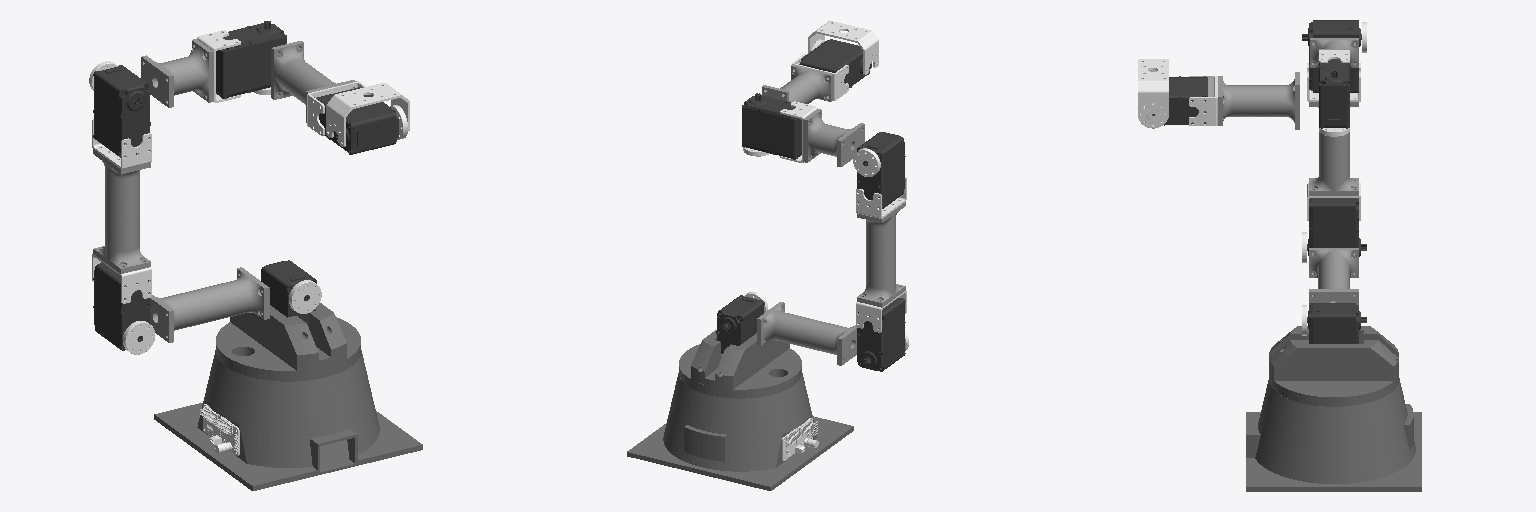
--- Render facts (derived) ---
The picture shows the robot from 3 angles, left to right: view 1: azimuth 30°, elevation 25°; view 2: azimuth 150°, elevation 25°; view 3: azimuth 270°, elevation 25°; orthographic projection.
Robot: arm — 8 links, 7 joints (6 revolute, 1 fixed); root link base_link; default pose: every joint at zero.
Links seen in each view (by area): view 1: base_link, link_3, link_1, link_4, link_2, link_5, link_6; view 2: base_link, link_3, link_1, link_4, link_5, link_2, link_6; view 3: base_link, link_1, link_3, link_5, link_4, link_2, link_6.
Link boxes in pixels (x1=…): base_link: x1=154, y1=350, x2=422, y2=490; link_3: x1=92, y1=65, x2=151, y2=350; link_1: x1=216, y1=260, x2=360, y2=381; link_4: x1=89, y1=21, x2=286, y2=107; link_2: x1=123, y1=267, x2=321, y2=354; link_5: x1=254, y1=41, x2=398, y2=154; link_6: x1=326, y1=83, x2=409, y2=146; base_link: x1=627, y1=373, x2=853, y2=490; link_3: x1=856, y1=132, x2=906, y2=371; link_1: x1=679, y1=295, x2=801, y2=398; link_4: x1=742, y1=93, x2=880, y2=176; link_5: x1=743, y1=39, x2=871, y2=156; link_2: x1=744, y1=292, x2=908, y2=365; link_6: x1=808, y1=20, x2=878, y2=74; base_link: x1=1246, y1=378, x2=1421, y2=491; link_1: x1=1269, y1=303, x2=1398, y2=406; link_3: x1=1302, y1=20, x2=1366, y2=256; link_5: x1=1152, y1=72, x2=1349, y2=136; link_4: x1=1310, y1=22, x2=1366, y2=128; link_2: x1=1302, y1=232, x2=1358, y2=335; link_6: x1=1138, y1=59, x2=1168, y2=128.
Size in the robot's own frame: 0.266 by 0.2747 by 0.3998 metres.
Meshes: 20 distinct files referenced, 25 mesh visuals loaded (14 binary STL); not drawn: 15 (reference not matched to a file when rendering).

robot.urdf — arm:
<?xml version="1.0" ?>
<!-- Generated using onshape-to-robot -->
<!-- Onshape https://cad.onshape.com/documents/76b458222900603d1acdcd2d/w/60b37ffbb10251fa10a15486/e/290041a083f12777cf197925 -->
<robot name="arm">
  <!-- Link base_link -->
  <link name="base_link">
    <inertial>
      <origin xyz="-0.0316393 0.0105246 0.0193454" rpy="0 0 0"/>
      <mass value="0.0051027"/>
      <inertia ixx="4.43651e-06" ixy="-1.66842e-06" ixz="1.48432e-07" iyy="5.21001e-06" iyz="5.5828e-08" izz="8.99635e-06"/>
    </inertial>
    <!-- Part ph_pan_head_screw_m2x0_40_x_18__e892a708fe3a418cf40ac0100f4b190f -->
    <!-- Part base -->
    <visual>
      <origin xyz="-4.13721e-18 9.14136e-05 0.08" rpy="0 -0 0"/>
      <geometry>
        <mesh filename="package://arm_description/assets/base.stl"/>
      </geometry>
      <material name="base_material">
        <color rgba="0.498039 0.498039 0.498039 1"/>
      </material>
    </visual>
    <collision>
      <origin xyz="-4.13721e-18 9.14136e-05 0.08" rpy="0 -0 0"/>
      <geometry>
        <mesh filename="package://arm_description/assets/base.stl"/>
      </geometry>
    </collision>
    <!-- Part ph_pan_head_screw_m2_5x0_45_x_5__7fa1fce1761ec0205aecddd7e6f541bd -->
    <!-- Part ph_pan_head_screw_m2x0_40_x_18__e892a708fe3a418cf40ac0100f4b190f_2 -->
    <!-- Part hex_nut_grade_a___b_m2x0_4__3c416b87f78c3d5d8c04a06ae4c9fdad -->
    <!-- Part ph_pan_head_screw_m2x0_40_x_18__e892a708fe3a418cf40ac0100f4b190f_3 -->
    <!-- Part ph_pan_head_screw_m2_5x0_45_x_5__7fa1fce1761ec0205aecddd7e6f541bd_2 -->
    <!-- Part pca9685_v18 -->
    <visual>
      <origin xyz="-0.0662643 0.0302904 0.0333648" rpy="3.14159 -0 -1.5708"/>
      <geometry>
        <mesh filename="package://arm_description/assets/pca9685_v18.stl"/>
      </geometry>
      <material name="pca9685_v18_material">
        <color rgba="0.960784 0.960784 0.964706 1"/>
      </material>
    </visual>
    <collision>
      <origin xyz="-0.0662643 0.0302904 0.0333648" rpy="3.14159 -0 -1.5708"/>
      <geometry>
        <mesh filename="package://arm_description/assets/pca9685_v18.stl"/>
      </geometry>
    </collision>
    <!-- Part hex_nut_grade_a___b_m2x0_4__3c416b87f78c3d5d8c04a06ae4c9fdad_2 -->
    <!-- Part hex_nut_grade_a___b_m2x0_4__3c416b87f78c3d5d8c04a06ae4c9fdad_3 -->
    <!-- Part ph_pan_head_screw_m2_5x0_45_x_5__7fa1fce1761ec0205aecddd7e6f541bd_3 -->
    <!-- Part ph_pan_head_screw_m2_5x0_45_x_5__7fa1fce1761ec0205aecddd7e6f541bd_4 -->
    <!-- Part ph_pan_head_screw_m2_5x0_45_x_5__7fa1fce1761ec0205aecddd7e6f541bd_5 -->
    <!-- Part ph_pan_head_screw_m2_5x0_45_x_5__7fa1fce1761ec0205aecddd7e6f541bd_6 -->
    <!-- Part hex_nut_grade_a___b_m2x0_4__3c416b87f78c3d5d8c04a06ae4c9fdad_4 -->
    <!-- Part ph_pan_head_screw_m2x0_40_x_18__e892a708fe3a418cf40ac0100f4b190f_4 -->
    <!-- Part din_en_iso_4762_m2_5x25_ipt_v2 -->
    <!-- Part din_en_iso_4762_m2_5x25_ipt_v2_2 -->
    <!-- Part din_en_iso_4762_m2_5x25_ipt_v2_3 -->
    <!-- Part din_en_iso_4762_m2_5x25_ipt_v2_4 -->
    <!-- Part servo_base -->
    <visual>
      <origin xyz="4.07245e-18 -0.0119086 0.068" rpy="1.5708 1.5708 0"/>
      <geometry>
        <mesh filename="package://arm_description/assets/servo_base.stl"/>
      </geometry>
      <material name="servo_base_material">
        <color rgba="0.313725 0.313725 0.313725 1"/>
      </material>
    </visual>
    <collision>
      <origin xyz="4.07245e-18 -0.0119086 0.068" rpy="1.5708 1.5708 0"/>
      <geometry>
        <mesh filename="package://arm_description/assets/servo_base.stl"/>
      </geometry>
    </collision>
  </link>
  <!-- Link link_1 -->
  <link name="link_1">
    <inertial>
      <origin xyz="-0.000786667 0.00161245 0.0144578" rpy="0 0 0"/>
      <mass value="0.336956"/>
      <inertia ixx="0.00040334" ixy="-4.27416e-07" ixz="-1.97684e-06" iyy="0.000285713" iyz="-7.50728e-06" izz="0.000595346"/>
    </inertial>
    <!-- Part joint_2_connecter2 -->
    <visual>
      <origin xyz="-2.0755e-18 4.97131e-05 0.0045" rpy="3.77136e-16 4.13813e-16 -3.14159"/>
      <geometry>
        <mesh filename="package://arm_description/assets/joint_2_connecter2.stl"/>
      </geometry>
      <material name="joint_2_connecter2_material">
        <color rgba="0.498039 0.498039 0.498039 1"/>
      </material>
    </visual>
    <collision>
      <origin xyz="-2.0755e-18 4.97131e-05 0.0045" rpy="3.77136e-16 4.13813e-16 -3.14159"/>
      <geometry>
        <mesh filename="package://arm_description/assets/joint_2_connecter2.stl"/>
      </geometry>
    </collision>
    <!-- Part hex_nut_grade_a___b_m3x0_5__efee9957898a49f0fc3bee2ce194c05c -->
    <!-- Part ph_pan_head_screw_m2_5x0_45_x_5__7fa1fce1761ec0205aecddd7e6f541bd_7 -->
    <!-- Part ph_pan_head_screw_m2_5x0_45_x_5__7fa1fce1761ec0205aecddd7e6f541bd_8 -->
    <!-- Part hex_nut_grade_a___b_m3x0_5__efee9957898a49f0fc3bee2ce194c05c_2 -->
    <!-- Part ph_pan_head_screw_m2_5x0_45_x_5__7fa1fce1761ec0205aecddd7e6f541bd_9 -->
    <!-- Part ph_pan_head_screw_m3x0_50_x_16__783e59ccdfb4992b21648f4a6e255603 -->
    <!-- Part wheel_gear_v6 -->
    <visual>
      <origin xyz="0 6.77626e-19 -0.0055" rpy="1.5708 4.80235e-33 3.63501e-32"/>
      <geometry>
        <mesh filename="package://arm_description/assets/wheel_gear_v6.stl"/>
      </geometry>
      <material name="wheel_gear_v6_material">
        <color rgba="0.960784 0.960784 0.964706 1"/>
      </material>
    </visual>
    <collision>
      <origin xyz="0 6.77626e-19 -0.0055" rpy="1.5708 4.80235e-33 3.63501e-32"/>
      <geometry>
        <mesh filename="package://arm_description/assets/wheel_gear_v6.stl"/>
      </geometry>
    </collision>
    <!-- Part base_cover -->
    <visual>
      <origin xyz="-2.06907e-18 -6.87113e-18 0.0045" rpy="-9.87758e-16 -4.13813e-16 1.29342e-16"/>
      <geometry>
        <mesh filename="package://arm_description/assets/base_cover.stl"/>
      </geometry>
      <material name="base_cover_material">
        <color rgba="0.498039 0.498039 0.498039 1"/>
      </material>
    </visual>
    <collision>
      <origin xyz="-2.06907e-18 -6.87113e-18 0.0045" rpy="-9.87758e-16 -4.13813e-16 1.29342e-16"/>
      <geometry>
        <mesh filename="package://arm_description/assets/base_cover.stl"/>
      </geometry>
    </collision>
    <!-- Part ph_pan_head_screw_m2_5x0_45_x_6__500490dbd18317df19b0482cf3b5d3b6 -->
    <!-- Part ph_pan_head_screw_m2_5x0_45_x_5__7fa1fce1761ec0205aecddd7e6f541bd_10 -->
    <!-- Part ph_pan_head_screw_m2_5x0_45_x_5__7fa1fce1761ec0205aecddd7e6f541bd_11 -->
    <!-- Part joint_2_connecter1 -->
    <visual>
      <origin xyz="-2.0755e-18 4.97131e-05 0.0045" rpy="3.77136e-16 4.13813e-16 -3.14159"/>
      <geometry>
        <mesh filename="package://arm_description/assets/joint_2_connecter1.stl"/>
      </geometry>
      <material name="joint_2_connecter1_material">
        <color rgba="0.498039 0.498039 0.498039 1"/>
      </material>
    </visual>
    <collision>
      <origin xyz="-2.0755e-18 4.97131e-05 0.0045" rpy="3.77136e-16 4.13813e-16 -3.14159"/>
      <geometry>
        <mesh filename="package://arm_description/assets/joint_2_connecter1.stl"/>
      </geometry>
    </collision>
    <!-- Part ph_pan_head_screw_m2_5x0_45_x_5__7fa1fce1761ec0205aecddd7e6f541bd_12 -->
    <!-- Part hex_nut_grade_a___b_m3x0_5__efee9957898a49f0fc3bee2ce194c05c_3 -->
    <!-- Part ph_pan_head_screw_m3x0_50_x_16__783e59ccdfb4992b21648f4a6e255603_2 -->
    <!-- Part hex_nut_grade_a___b_m3x0_5__efee9957898a49f0fc3bee2ce194c05c_4 -->
    <!-- Part ph_pan_head_screw_m2_5x0_45_x_6__500490dbd18317df19b0482cf3b5d3b6_2 -->
    <!-- Part ph_pan_head_screw_m2_5x0_45_x_6__500490dbd18317df19b0482cf3b5d3b6_3 -->
    <!-- Part ph_pan_head_screw_m3x0_50_x_16__783e59ccdfb4992b21648f4a6e255603_3 -->
    <!-- Part ph_pan_head_screw_m2_5x0_45_x_6__500490dbd18317df19b0482cf3b5d3b6_4 -->
    <!-- Part ph_pan_head_screw_m2_5x0_45_x_5__7fa1fce1761ec0205aecddd7e6f541bd_13 -->
    <!-- Part ph_pan_head_screw_m2_5x0_45_x_5__7fa1fce1761ec0205aecddd7e6f541bd_14 -->
    <!-- Part ph_pan_head_screw_m3x0_50_x_16__783e59ccdfb4992b21648f4a6e255603_4 -->
    <!-- Part din_en_iso_4762_m2_5x25_ipt_v2_5 -->
    <!-- Part din_en_iso_4762_m2_5x25_ipt_v2_6 -->
    <!-- Part din_en_iso_4762_m2_5x25_ipt_v2_7 -->
    <!-- Part din_en_iso_4762_m2_5x25_ipt_v2_8 -->
    <!-- Part servo_base_2 -->
    <visual>
      <origin xyz="-3.34274e-17 -0.0240746 0.0795" rpy="-4.66678e-16 9.87758e-16 1.5708"/>
      <geometry>
        <mesh filename="package://arm_description/assets/servo_base__2.stl"/>
      </geometry>
      <material name="servo_base_2_material">
        <color rgba="0.313725 0.313725 0.313725 1"/>
      </material>
    </visual>
    <collision>
      <origin xyz="-3.34274e-17 -0.0240746 0.0795" rpy="-4.66678e-16 9.87758e-16 1.5708"/>
      <geometry>
        <mesh filename="package://arm_description/assets/servo_base__2.stl"/>
      </geometry>
    </collision>
  </link>
  <!-- Link link_2 -->
  <link name="link_2">
    <inertial>
      <origin xyz="-0.083 -9.90348e-18 -0.03175" rpy="0 0 0"/>
      <mass value="0.014882"/>
      <inertia ixx="1.0566e-05" ixy="-6.61744e-22" ixz="-5.66453e-20" iyy="6.13828e-05" iyz="-2.66021e-21" izz="5.38966e-05"/>
    </inertial>
    <!-- Part hex_nut_grade_a___b_m3x0_5__efee9957898a49f0fc3bee2ce194c05c_5 -->
    <!-- Part link__rotation_default_length__cm___10 -->
    <visual>
      <origin xyz="-0.033 0 -0.03175" rpy="-3.14159 1.5708 0"/>
      <geometry>
        <mesh filename="package://arm_description/assets/link__rotation_default_length__cm___10.stl"/>
      </geometry>
      <material name="link__rotation_default_length__cm___10_material">
        <color rgba="0.647059 0.647059 0.647059 1"/>
      </material>
    </visual>
    <collision>
      <origin xyz="-0.033 0 -0.03175" rpy="-3.14159 1.5708 0"/>
      <geometry>
        <mesh filename="package://arm_description/assets/link__rotation_default_length__cm___10.stl"/>
      </geometry>
    </collision>
    <!-- Part ph_pan_head_screw_m3x0_50_x_10__f9471002c7d2be787504e53f034b0545 -->
    <!-- Part hex_nut_grade_a___b_m3x0_5__efee9957898a49f0fc3bee2ce194c05c_6 -->
    <!-- Part ph_pan_head_screw_m3x0_50_x_10__f9471002c7d2be787504e53f034b0545_2 -->
    <!-- Part ph_pan_head_screw_m3x0_50_x_10__f9471002c7d2be787504e53f034b0545_3 -->
    <!-- Part hex_nut_grade_a___b_m3x0_5__efee9957898a49f0fc3bee2ce194c05c_7 -->
    <!-- Part hex_nut_grade_a___b_m3x0_5__efee9957898a49f0fc3bee2ce194c05c_8 -->
    <!-- Part ph_pan_head_screw_m3x0_50_x_10__f9471002c7d2be787504e53f034b0545_4 -->
    <!-- Part hex_nut_grade_a___b_m3x0_5__efee9957898a49f0fc3bee2ce194c05c_9 -->
    <!-- Part hex_nut_grade_a___b_m3x0_5__efee9957898a49f0fc3bee2ce194c05c_10 -->
    <!-- Part ph_pan_head_screw_m3x0_50_x_10__f9471002c7d2be787504e53f034b0545_5 -->
    <!-- Part ph_pan_head_screw_m3x0_50_x_10__f9471002c7d2be787504e53f034b0545_6 -->
    <!-- Part ph_pan_head_screw_m3x0_50_x_10__f9471002c7d2be787504e53f034b0545_7 -->
    <!-- Part ph_pan_head_screw_m3x0_50_x_10__f9471002c7d2be787504e53f034b0545_8 -->
    <!-- Part hex_nut_grade_a___b_m3x0_5__efee9957898a49f0fc3bee2ce194c05c_11 -->
    <!-- Part hex_nut_grade_a___b_m3x0_5__efee9957898a49f0fc3bee2ce194c05c_12 -->
    <!-- Part ph_pan_head_screw_m2x0_40_x_6__e925606c9d0777623cf02b2ae3e987b1 -->
    <!-- Part ph_pan_head_screw_m2x0_40_x_6__e925606c9d0777623cf02b2ae3e987b1_2 -->
    <!-- Part ph_pan_head_screw_m2x0_40_x_6__e925606c9d0777623cf02b2ae3e987b1_3 -->
    <!-- Part ph_pan_head_screw_m2x0_40_x_6__e925606c9d0777623cf02b2ae3e987b1_4 -->
    <!-- Part ph_pan_head_screw_m2x0_40_x_6__e925606c9d0777623cf02b2ae3e987b1_5 -->
    <!-- Part ph_pan_head_screw_m2x0_40_x_6__e925606c9d0777623cf02b2ae3e987b1_6 -->
    <!-- Part ph_pan_head_screw_m2x0_40_x_6__e925606c9d0777623cf02b2ae3e987b1_7 -->
    <!-- Part wheel_gear_v6_2 -->
    <visual>
      <origin xyz="-3.9443e-31 0 -0.0055" rpy="1.5708 -2.37925e-32 0"/>
      <geometry>
        <mesh filename="package://arm_description/assets/wheel_gear_v6__2.stl"/>
      </geometry>
      <material name="wheel_gear_v6_2_material">
        <color rgba="0.960784 0.960784 0.964706 1"/>
      </material>
    </visual>
    <collision>
      <origin xyz="-3.9443e-31 0 -0.0055" rpy="1.5708 -2.37925e-32 0"/>
      <geometry>
        <mesh filename="package://arm_description/assets/wheel_gear_v6__2.stl"/>
      </geometry>
    </collision>
    <!-- Part ph_pan_head_screw_m2x0_40_x_6__e925606c9d0777623cf02b2ae3e987b1_8 -->
    <!-- Part ph_pan_head_screw_m2x0_40_x_6__e925606c9d0777623cf02b2ae3e987b1_9 -->
    <!-- Part ph_pan_head_screw_m2x0_40_x_6__e925606c9d0777623cf02b2ae3e987b1_10 -->
    <!-- Part large_support -->
    <visual>
      <origin xyz="-0.033 0.015 0.0015" rpy="-3.14159 1.5708 0"/>
      <geometry>
        <mesh filename="package://arm_description/assets/large_support.stl"/>
      </geometry>
      <material name="large_support_material">
        <color rgba="0.960784 0.960784 0.964706 1"/>
      </material>
    </visual>
    <collision>
      <origin xyz="-0.033 0.015 0.0015" rpy="-3.14159 1.5708 0"/>
      <geometry>
        <mesh filename="package://arm_description/assets/large_support.stl"/>
      </geometry>
    </collision>
    <!-- Part ph_pan_head_screw_m2x0_40_x_6__e925606c9d0777623cf02b2ae3e987b1_11 -->
    <!-- Part ph_pan_head_screw_m2x0_40_x_6__e925606c9d0777623cf02b2ae3e987b1_12 -->
    <!-- Part ph_pan_head_screw_m2x0_40_x_6__e925606c9d0777623cf02b2ae3e987b1_13 -->
    <!-- Part ph_pan_head_screw_m2x0_40_x_6__e925606c9d0777623cf02b2ae3e987b1_14 -->
    <!-- Part ph_pan_head_screw_m2x0_40_x_6__e925606c9d0777623cf02b2ae3e987b1_15 -->
    <!-- Part ph_pan_head_screw_m2x0_40_x_6__e925606c9d0777623cf02b2ae3e987b1_16 -->
    <!-- Part ph_pan_head_screw_m2x0_40_x_6__e925606c9d0777623cf02b2ae3e987b1_17 -->
    <!-- Part wheel_gear_v6_3 -->
    <visual>
      <origin xyz="-0.166 2.77556e-17 -0.0055" rpy="1.5708 -5.92489e-15 3.14159"/>
      <geometry>
        <mesh filename="package://arm_description/assets/wheel_gear_v6__2.stl"/>
      </geometry>
      <material name="wheel_gear_v6_3_material">
        <color rgba="0.960784 0.960784 0.964706 1"/>
      </material>
    </visual>
    <collision>
      <origin xyz="-0.166 2.77556e-17 -0.0055" rpy="1.5708 -5.92489e-15 3.14159"/>
      <geometry>
        <mesh filename="package://arm_description/assets/wheel_gear_v6__2.stl"/>
      </geometry>
    </collision>
    <!-- Part ph_pan_head_screw_m2x0_40_x_6__e925606c9d0777623cf02b2ae3e987b1_18 -->
    <!-- Part ph_pan_head_screw_m2x0_40_x_6__e925606c9d0777623cf02b2ae3e987b1_19 -->
    <!-- Part ph_pan_head_screw_m2x0_40_x_6__e925606c9d0777623cf02b2ae3e987b1_20 -->
    <!-- Part large_support_2 -->
    <visual>
      <origin xyz="-0.133 -0.015 0.0015" rpy="-0 1.5708 0"/>
      <geometry>
        <mesh filename="package://arm_description/assets/large_support.stl"/>
      </geometry>
      <material name="large_support_2_material">
        <color rgba="0.960784 0.960784 0.964706 1"/>
      </material>
    </visual>
    <collision>
      <origin xyz="-0.133 -0.015 0.0015" rpy="-0 1.5708 0"/>
      <geometry>
        <mesh filename="package://arm_description/assets/large_support.stl"/>
      </geometry>
    </collision>
    <!-- Part 6mm_bearing_v2 -->
    <visual>
      <origin xyz="-4.01379e-16 5.55112e-17 -0.0595" rpy="1.5708 -1.5708 0"/>
      <geometry>
        <mesh filename="package://arm_description/assets/6mm_bearing_v2.stl"/>
      </geometry>
      <material name="6mm_bearing_v2_material">
        <color rgba="0.627451 0.627451 0.627451 1"/>
      </material>
    </visual>
    <collision>
      <origin xyz="-4.01379e-16 5.55112e-17 -0.0595" rpy="1.5708 -1.5708 0"/>
      <geometry>
        <mesh filename="package://arm_description/assets/6mm_bearing_v2.stl"/>
      </geometry>
    </collision>
    <!-- Part wheel_v5 -->
    <visual>
      <origin xyz="-2.56872e-16 -2.77556e-17 -0.058" rpy="-1.5708 -4.4964e-15 -3.14159"/>
      <geometry>
        <mesh filename="package://arm_description/assets/wheel_v5.stl"/>
      </geometry>
      <material name="wheel_v5_material">
        <color rgba="0.960784 0.960784 0.964706 1"/>
      </material>
    </visual>
    <collision>
      <origin xyz="-2.56872e-16 -2.77556e-17 -0.058" rpy="-1.5708 -4.4964e-15 -3.14159"/>
      <geometry>
        <mesh filename="package://arm_description/assets/wheel_v5.stl"/>
      </geometry>
    </collision>
    <!-- Part 6mm_bearing_v2_2 -->
    <visual>
      <origin xyz="-0.166 3.05311e-16 -0.0595" rpy="-1.5708 -1.5708 0"/>
      <geometry>
        <mesh filename="package://arm_description/assets/6mm_bearing_v2.stl"/>
      </geometry>
      <material name="6mm_bearing_v2_2_material">
        <color rgba="0.627451 0.627451 0.627451 1"/>
      </material>
    </visual>
    <collision>
      <origin xyz="-0.166 3.05311e-16 -0.0595" rpy="-1.5708 -1.5708 0"/>
      <geometry>
        <mesh filename="package://arm_description/assets/6mm_bearing_v2.stl"/>
      </geometry>
    </collision>
    <!-- Part wheel_v5_2 -->
    <visual>
      <origin xyz="-0.166 2.77556e-17 -0.058" rpy="-1.5708 -7.03095e-17 -1.13596e-28"/>
      <geometry>
        <mesh filename="package://arm_description/assets/wheel_v5.stl"/>
      </geometry>
      <material name="wheel_v5_2_material">
        <color rgba="0.960784 0.960784 0.964706 1"/>
      </material>
    </visual>
    <collision>
      <origin xyz="-0.166 2.77556e-17 -0.058" rpy="-1.5708 -7.03095e-17 -1.13596e-28"/>
      <geometry>
        <mesh filename="package://arm_description/assets/wheel_v5.stl"/>
      </geometry>
    </collision>
  </link>
  <!-- Link link_3 -->
  <link name="link_3">
    <inertial>
      <origin xyz="1.00509e-05 0.112 0.0300711" rpy="0 0 0"/>
      <mass value="0.0138515"/>
      <inertia ixx="4.67494e-05" ixy="-6.09569e-09" ixz="-4.50431e-09" iyy="8.04844e-06" iyz="-6.12919e-09" izz="4.18389e-05"/>
    </inertial>
    <!-- Part link__rotation_default_length__cm___10_2 -->
    <visual>
      <origin xyz="2.77556e-17 0.162 0.0315" rpy="1.5708 1.5708 0"/>
      <geometry>
        <mesh filename="package://arm_description/assets/link__rotation_default_length__cm___10.stl"/>
      </geometry>
      <material name="link__rotation_default_length__cm___10_2_material">
        <color rgba="0.647059 0.647059 0.647059 1"/>
      </material>
    </visual>
    <collision>
      <origin xyz="2.77556e-17 0.162 0.0315" rpy="1.5708 1.5708 0"/>
      <geometry>
        <mesh filename="package://arm_description/assets/link__rotation_default_length__cm___10.stl"/>
      </geometry>
    </collision>
    <!-- Part ph_pan_head_screw_m3x0_50_x_10__f9471002c7d2be787504e53f034b0545_9 -->
    <!-- Part hex_nut_grade_a___b_m3x0_5__efee9957898a49f0fc3bee2ce194c05c_13 -->
    <!-- Part ph_pan_head_screw_m2_5x0_45_x_5__7fa1fce1761ec0205aecddd7e6f541bd_15 -->
    <!-- Part ph_pan_head_screw_m2_5x0_45_x_5__7fa1fce1761ec0205aecddd7e6f541bd_16 -->
    <!-- Part small_support -->
    <visual>
      <origin xyz="-0.015 0.162 0.0575" rpy="1.5708 1.5708 0"/>
      <geometry>
        <mesh filename="package://arm_description/assets/small_support.stl"/>
      </geometry>
      <material name="small_support_material">
        <color rgba="0.960784 0.960784 0.964706 1"/>
      </material>
    </visual>
    <collision>
      <origin xyz="-0.015 0.162 0.0575" rpy="1.5708 1.5708 0"/>
      <geometry>
        <mesh filename="package://arm_description/assets/small_support.stl"/>
      </geometry>
    </collision>
    <!-- Part ph_pan_head_screw_m2_5x0_45_x_5__7fa1fce1761ec0205aecddd7e6f541bd_17 -->
    <!-- Part hex_nut_grade_a___b_m3x0_5__efee9957898a49f0fc3bee2ce194c05c_14 -->
    <!-- Part hex_nut_grade_a___b_m3x0_5__efee9957898a49f0fc3bee2ce194c05c_15 -->
    <!-- Part ph_pan_head_screw_m3x0_50_x_10__f9471002c7d2be787504e53f034b0545_10 -->
    <!-- Part hex_nut_grade_a___b_m3x0_5__efee9957898a49f0fc3bee2ce194c05c_16 -->
    <!-- Part ph_pan_head_screw_m3x0_50_x_10__f9471002c7d2be787504e53f034b0545_11 -->
    <!-- Part ph_pan_head_screw_m2_5x0_45_x_5__7fa1fce1761ec0205aecddd7e6f541bd_18 -->
    <!-- Part ph_pan_head_screw_m2_5x0_45_x_5__7fa1fce1761ec0205aecddd7e6f541bd_19 -->
    <!-- Part ph_pan_head_screw_m3x0_50_x_10__f9471002c7d2be787504e53f034b0545_12 -->
    <!-- Part ph_pan_head_screw_m3x0_50_x_10__f9471002c7d2be787504e53f034b0545_13 -->
    <!-- Part small_support_2 -->
    <visual>
      <origin xyz="0.015 0.062 0.0575" rpy="-1.5708 1.5708 0"/>
      <geometry>
        <mesh filename="package://arm_description/assets/small_support.stl"/>
      </geometry>
      <material name="small_support_2_material">
        <color rgba="0.960784 0.960784 0.964706 1"/>
      </material>
    </visual>
    <collision>
      <origin xyz="0.015 0.062 0.0575" rpy="-1.5708 1.5708 0"/>
      <geometry>
        <mesh filename="package://arm_description/assets/small_support.stl"/>
      </geometry>
    </collision>
    <!-- Part ph_pan_head_screw_m3x0_50_x_10__f9471002c7d2be787504e53f034b0545_14 -->
    <!-- Part ph_pan_head_screw_m2_5x0_45_x_5__7fa1fce1761ec0205aecddd7e6f541bd_20 -->
    <!-- Part hex_nut_grade_a___b_m3x0_5__efee9957898a49f0fc3bee2ce194c05c_17 -->
    <!-- Part ph_pan_head_screw_m2_5x0_45_x_5__7fa1fce1761ec0205aecddd7e6f541bd_21 -->
    <!-- Part ph_pan_head_screw_m2_5x0_45_x_5__7fa1fce1761ec0205aecddd7e6f541bd_22 -->
    <!-- Part hex_nut_grade_a___b_m3x0_5__efee9957898a49f0fc3bee2ce194c05c_18 -->
    <!-- Part ph_pan_head_screw_m3x0_50_x_10__f9471002c7d2be787504e53f034b0545_15 -->
    <!-- Part ph_pan_head_screw_m2_5x0_45_x_5__7fa1fce1761ec0205aecddd7e6f541bd_23 -->
    <!-- Part hex_nut_grade_a___b_m3x0_5__efee9957898a49f0fc3bee2ce194c05c_19 -->
    <!-- Part ph_pan_head_screw_m3x0_50_x_10__f9471002c7d2be787504e53f034b0545_16 -->
    <!-- Part ph_pan_head_screw_m2_5x0_45_x_5__7fa1fce1761ec0205aecddd7e6f541bd_24 -->
    <!-- Part hex_nut_grade_a___b_m3x0_5__efee9957898a49f0fc3bee2ce194c05c_20 -->
    <!-- Part din_en_iso_4762_m2_5x25_ipt_v2_9 -->
    <!-- Part din_en_iso_4762_m2_5x25_ipt_v2_10 -->
    <!-- Part din_en_iso_4762_m2_5x25_ipt_v2_11 -->
    <!-- Part din_en_iso_4762_m2_5x25_ipt_v2_12 -->
    <!-- Part servo_base_3 -->
    <visual>
      <origin xyz="3.88578e-16 0.236 0.0555" rpy="-1.5708 1.5708 0"/>
      <geometry>
        <mesh filename="package://arm_description/assets/servo_base__2.stl"/>
      </geometry>
      <material name="servo_base_3_material">
        <color rgba="0.313725 0.313725 0.313725 1"/>
      </material>
    </visual>
    <collision>
      <origin xyz="3.88578e-16 0.236 0.0555" rpy="-1.5708 1.5708 0"/>
      <geometry>
        <mesh filename="package://arm_description/assets/servo_base__2.stl"/>
      </geometry>
    </collision>
    <!-- Part din_en_iso_4762_m2_5x25_ipt_v2_13 -->
    <!-- Part din_en_iso_4762_m2_5x25_ipt_v2_14 -->
    <!-- Part din_en_iso_4762_m2_5x25_ipt_v2_15 -->
    <!-- Part din_en_iso_4762_m2_5x25_ipt_v2_16 -->
    <!-- Part servo_base_4 -->
    <visual>
      <origin xyz="0 -0.012 0.0075" rpy="1.5708 -1.5708 0"/>
      <geometry>
        <mesh filename="package://arm_description/assets/servo_base__2.stl"/>
      </geometry>
      <material name="servo_base_4_material">
        <color rgba="0.313725 0.313725 0.313725 1"/>
      </material>
    </visual>
    <collision>
      <origin xyz="0 -0.012 0.0075" rpy="1.5708 -1.5708 0"/>
      <geometry>
        <mesh filename="package://arm_description/assets/servo_base__2.stl"/>
      </geometry>
    </collision>
  </link>
  <!-- Link link_4 -->
  <link name="link_4">
    <inertial>
      <origin xyz="-0.0546866 -0.000693703 -0.0317694" rpy="0 0 0"/>
      <mass value="0.0143668"/>
      <inertia ixx="9.34465e-06" ixy="-6.40964e-07" ixz="-1.79607e-09" iyy="2.07106e-05" iyz="8.8039e-09" izz="1.94286e-05"/>
    </inertial>
    <!-- Part ph_pan_head_screw_m2_5x0_45_x_5__7fa1fce1761ec0205aecddd7e6f541bd_25 -->
    <!-- Part hex_nut_grade_a___b_m3x0_5__efee9957898a49f0fc3bee2ce194c05c_21 -->
    <!-- Part ph_pan_head_screw_m3x0_50_x_10__f9471002c7d2be787504e53f034b0545_17 -->
    <!-- Part hex_nut_grade_a___b_m3x0_5__efee9957898a49f0fc3bee2ce194c05c_22 -->
    <!-- Part hex_nut_grade_a___b_m3x0_5__efee9957898a49f0fc3bee2ce194c05c_23 -->
    <!-- Part ph_pan_head_screw_m3x0_50_x_10__f9471002c7d2be787504e53f034b0545_18 -->
    <!-- Part ph_pan_head_screw_m3x0_50_x_10__f9471002c7d2be787504e53f034b0545_19 -->
    <!-- Part small_support_3 -->
    <visual>
      <origin xyz="-0.083 0.026 -0.01675" rpy="-1.5708 -1.18245e-14 -1.5708"/>
      <geometry>
        <mesh filename="package://arm_description/assets/small_support.stl"/>
      </geometry>
      <material name="small_support_3_material">
        <color rgba="0.960784 0.960784 0.964706 1"/>
      </material>
    </visual>
    <collision>
      <origin xyz="-0.083 0.026 -0.01675" rpy="-1.5708 -1.18245e-14 -1.5708"/>
      <geometry>
        <mesh filename="package://arm_description/assets/small_support.stl"/>
      </geometry>
    </collision>
    <!-- Part ph_pan_head_screw_m2_5x0_45_x_5__7fa1fce1761ec0205aecddd7e6f541bd_26 -->
    <!-- Part ph_pan_head_screw_m3x0_50_x_10__f9471002c7d2be787504e53f034b0545_20 -->
    <!-- Part hex_nut_grade_a___b_m3x0_5__efee9957898a49f0fc3bee2ce194c05c_24 -->
    <!-- Part ph_pan_head_screw_m3x0_50_x_10__f9471002c7d2be787504e53f034b0545_21 -->
    <!-- Part hex_nut_grade_a___b_m3x0_5__efee9957898a49f0fc3bee2ce194c05c_25 -->
    <!-- Part ph_pan_head_screw_m2_5x0_45_x_5__7fa1fce1761ec0205aecddd7e6f541bd_27 -->
    <!-- Part hex_nut_grade_a___b_m3x0_5__efee9957898a49f0fc3bee2ce194c05c_26 -->
    <!-- Part hex_nut_grade_a___b_m3x0_5__efee9957898a49f0fc3bee2ce194c05c_27 -->
    <!-- Part ph_pan_head_screw_m2_5x0_45_x_5__7fa1fce1761ec0205aecddd7e6f541bd_28 -->
    <!-- Part ph_pan_head_screw_m3x0_50_x_10__f9471002c7d2be787504e53f034b0545_22 -->
    <!-- Part hex_nut_grade_a___b_m3x0_5__efee9957898a49f0fc3bee2ce194c05c_28 -->
    <!-- Part ph_pan_head_screw_m3x0_50_x_10__f9471002c7d2be787504e53f034b0545_23 -->
    <!-- Part link__9b93bac3b3b26990f011e90599b8f64f -->
    <visual>
      <origin xyz="-0.033 -2.16493e-15 -0.03175" rpy="3.14159 1.5708 0"/>
      <geometry>
        <mesh filename="package://arm_description/assets/link__9b93bac3b3b26990f011e90599b8f64f.stl"/>
      </geometry>
      <material name="link__9b93bac3b3b26990f011e90599b8f64f_material">
        <color rgba="0.647059 0.647059 0.647059 1"/>
      </material>
    </visual>
    <collision>
      <origin xyz="-0.033 -2.16493e-15 -0.03175" rpy="3.14159 1.5708 0"/>
      <geometry>
        <mesh filename="package://arm_description/assets/link__9b93bac3b3b26990f011e90599b8f64f.stl"/>
      </geometry>
    </collision>
    <!-- Part ph_pan_head_screw_m3x0_50_x_10__f9471002c7d2be787504e53f034b0545_24 -->
    <!-- Part ph_pan_head_screw_m2_5x0_45_x_5__7fa1fce1761ec0205aecddd7e6f541bd_29 -->
    <!-- Part din_en_iso_4762_m2_5x25_ipt_v2_17 -->
    <!-- Part din_en_iso_4762_m2_5x25_ipt_v2_18 -->
    <!-- Part din_en_iso_4762_m2_5x25_ipt_v2_19 -->
    <!-- Part din_en_iso_4762_m2_5x25_ipt_v2_20 -->
    <!-- Part servo_base_5 -->
    <visual>
      <origin xyz="-0.157 -0.024 -0.03175" rpy="-1.5708 1.35189e-14 1.5708"/>
      <geometry>
        <mesh filename="package://arm_description/assets/servo_base__2.stl"/>
      </geometry>
      <material name="servo_base_5_material">
        <color rgba="0.313725 0.313725 0.313725 1"/>
      </material>
    </visual>
    <collision>
      <origin xyz="-0.157 -0.024 -0.03175" rpy="-1.5708 1.35189e-14 1.5708"/>
      <geometry>
        <mesh filename="package://arm_description/assets/servo_base__2.stl"/>
      </geometry>
    </collision>
    <!-- Part ph_pan_head_screw_m2x0_40_x_6__e925606c9d0777623cf02b2ae3e987b1_21 -->
    <!-- Part ph_pan_head_screw_m2x0_40_x_6__e925606c9d0777623cf02b2ae3e987b1_22 -->
    <!-- Part ph_pan_head_screw_m2x0_40_x_6__e925606c9d0777623cf02b2ae3e987b1_23 -->
    <!-- Part ph_pan_head_screw_m2x0_40_x_6__e925606c9d0777623cf02b2ae3e987b1_24 -->
    <!-- Part ph_pan_head_screw_m2x0_40_x_6__e925606c9d0777623cf02b2ae3e987b1_25 -->
    <!-- Part ph_pan_head_screw_m2x0_40_x_6__e925606c9d0777623cf02b2ae3e987b1_26 -->
    <!-- Part ph_pan_head_screw_m2x0_40_x_6__e925606c9d0777623cf02b2ae3e987b1_27 -->
    <!-- Part wheel_gear_v6_4 -->
    <visual>
      <origin xyz="-5.27356e-16 -2.16493e-15 -0.0055" rpy="1.5708 4.50212e-15 -9.86076e-31"/>
      <geometry>
        <mesh filename="package://arm_description/assets/wheel_gear_v6__2.stl"/>
      </geometry>
      <material name="wheel_gear_v6_4_material">
        <color rgba="0.960784 0.960784 0.964706 1"/>
      </material>
    </visual>
    <collision>
      <origin xyz="-5.27356e-16 -2.16493e-15 -0.0055" rpy="1.5708 4.50212e-15 -9.86076e-31"/>
      <geometry>
        <mesh filename="package://arm_description/assets/wheel_gear_v6__2.stl"/>
      </geometry>
    </collision>
    <!-- Part ph_pan_head_screw_m2x0_40_x_6__e925606c9d0777623cf02b2ae3e987b1_28 -->
    <!-- Part ph_pan_head_screw_m2x0_40_x_6__e925606c9d0777623cf02b2ae3e987b1_29 -->
    <!-- Part ph_pan_head_screw_m2x0_40_x_6__e925606c9d0777623cf02b2ae3e987b1_30 -->
    <!-- Part large_support_3 -->
    <visual>
      <origin xyz="-0.033 0.015 0.0015" rpy="3.14159 1.5708 0"/>
      <geometry>
        <mesh filename="package://arm_description/assets/large_support.stl"/>
      </geometry>
      <material name="large_support_3_material">
        <color rgba="0.960784 0.960784 0.964706 1"/>
      </material>
    </visual>
    <collision>
      <origin xyz="-0.033 0.015 0.0015" rpy="3.14159 1.5708 0"/>
      <geometry>
        <mesh filename="package://arm_description/assets/large_support.stl"/>
      </geometry>
    </collision>
    <!-- Part 6mm_bearing_v2_3 -->
    <visual>
      <origin xyz="-1.38778e-16 -4.996e-16 -0.0595" rpy="1.5708 -1.5708 0"/>
      <geometry>
        <mesh filename="package://arm_description/assets/6mm_bearing_v2.stl"/>
      </geometry>
      <material name="6mm_bearing_v2_3_material">
        <color rgba="0.627451 0.627451 0.627451 1"/>
      </material>
    </visual>
    <collision>
      <origin xyz="-1.38778e-16 -4.996e-16 -0.0595" rpy="1.5708 -1.5708 0"/>
      <geometry>
        <mesh filename="package://arm_description/assets/6mm_bearing_v2.stl"/>
      </geometry>
    </collision>
    <!-- Part wheel_v5_3 -->
    <visual>
      <origin xyz="-4.44089e-16 -2.10942e-15 -0.058" rpy="-1.5708 -5.79821e-15 -3.14159"/>
      <geometry>
        <mesh filename="package://arm_description/assets/wheel_v5.stl"/>
      </geometry>
      <material name="wheel_v5_3_material">
        <color rgba="0.960784 0.960784 0.964706 1"/>
      </material>
    </visual>
    <collision>
      <origin xyz="-4.44089e-16 -2.10942e-15 -0.058" rpy="-1.5708 -5.79821e-15 -3.14159"/>
      <geometry>
        <mesh filename="package://arm_description/assets/wheel_v5.stl"/>
      </geometry>
    </collision>
  </link>
  <!-- Link link_5 -->
  <link name="link_5">
    <inertial>
      <origin xyz="-0.0691487 -0.000703393 -0.0317403" rpy="0 0 0"/>
      <mass value="0.0143668"/>
      <inertia ixx="9.31859e-06" ixy="-7.91652e-07" ixz="1.66653e-10" iyy="3.69436e-05" iyz="4.20691e-09" izz="3.56587e-05"/>
    </inertial>
    <!-- Part ph_pan_head_screw_m2_5x0_45_x_5__7fa1fce1761ec0205aecddd7e6f541bd_30 -->
    <!-- Part hex_nut_grade_a___b_m3x0_5__efee9957898a49f0fc3bee2ce194c05c_29 -->
    <!-- Part link__rotation_perpendicular_length__cm___8 -->
    <visual>
      <origin xyz="-0.033 5.89806e-17 -0.03175" rpy="3.14159 1.5708 0"/>
      <geometry>
        <mesh filename="package://arm_description/assets/link__rotation_perpendicular_length__cm___8.stl"/>
      </geometry>
      <material name="link__rotation_perpendicular_length__cm___8_material">
        <color rgba="0.647059 0.647059 0.647059 1"/>
      </material>
    </visual>
    <collision>
      <origin xyz="-0.033 5.89806e-17 -0.03175" rpy="3.14159 1.5708 0"/>
      <geometry>
        <mesh filename="package://arm_description/assets/link__rotation_perpendicular_length__cm___8.stl"/>
      </geometry>
    </collision>
    <!-- Part hex_nut_grade_a___b_m3x0_5__efee9957898a49f0fc3bee2ce194c05c_30 -->
    <!-- Part ph_pan_head_screw_m3x0_50_x_10__f9471002c7d2be787504e53f034b0545_25 -->
    <!-- Part hex_nut_grade_a___b_m3x0_5__efee9957898a49f0fc3bee2ce194c05c_31 -->
    <!-- Part hex_nut_grade_a___b_m3x0_5__efee9957898a49f0fc3bee2ce194c05c_32 -->
    <!-- Part ph_pan_head_screw_m3x0_50_x_10__f9471002c7d2be787504e53f034b0545_26 -->
    <!-- Part ph_pan_head_screw_m2_5x0_45_x_5__7fa1fce1761ec0205aecddd7e6f541bd_31 -->
    <!-- Part ph_pan_head_screw_m2_5x0_45_x_5__7fa1fce1761ec0205aecddd7e6f541bd_32 -->
    <!-- Part ph_pan_head_screw_m3x0_50_x_10__f9471002c7d2be787504e53f034b0545_27 -->
    <!-- Part ph_pan_head_screw_m3x0_50_x_10__f9471002c7d2be787504e53f034b0545_28 -->
    <!-- Part hex_nut_grade_a___b_m3x0_5__efee9957898a49f0fc3bee2ce194c05c_33 -->
    <!-- Part ph_pan_head_screw_m3x0_50_x_10__f9471002c7d2be787504e53f034b0545_29 -->
    <!-- Part hex_nut_grade_a___b_m3x0_5__efee9957898a49f0fc3bee2ce194c05c_34 -->
    <!-- Part ph_pan_head_screw_m3x0_50_x_10__f9471002c7d2be787504e53f034b0545_30 -->
    <!-- Part ph_pan_head_screw_m3x0_50_x_10__f9471002c7d2be787504e53f034b0545_31 -->
    <!-- Part ph_pan_head_screw_m2_5x0_45_x_5__7fa1fce1761ec0205aecddd7e6f541bd_33 -->
    <!-- Part ph_pan_head_screw_m2_5x0_45_x_5__7fa1fce1761ec0205aecddd7e6f541bd_34 -->
    <!-- Part hex_nut_grade_a___b_m3x0_5__efee9957898a49f0fc3bee2ce194c05c_35 -->
    <!-- Part ph_pan_head_screw_m3x0_50_x_10__f9471002c7d2be787504e53f034b0545_32 -->
    <!-- Part small_support_4 -->
    <visual>
      <origin xyz="-0.113 0.026 -0.01675" rpy="-1.5708 1.05436e-14 -1.5708"/>
      <geometry>
        <mesh filename="package://arm_description/assets/small_support.stl"/>
      </geometry>
      <material name="small_support_4_material">
        <color rgba="0.960784 0.960784 0.964706 1"/>
      </material>
    </visual>
    <collision>
      <origin xyz="-0.113 0.026 -0.01675" rpy="-1.5708 1.05436e-14 -1.5708"/>
      <geometry>
        <mesh filename="package://arm_description/assets/small_support.stl"/>
      </geometry>
    </collision>
    <!-- Part hex_nut_grade_a___b_m3x0_5__efee9957898a49f0fc3bee2ce194c05c_36 -->
    <!-- Part ph_pan_head_screw_m2x0_40_x_6__e925606c9d0777623cf02b2ae3e987b1_31 -->
    <!-- Part ph_pan_head_screw_m2x0_40_x_6__e925606c9d0777623cf02b2ae3e987b1_32 -->
    <!-- Part ph_pan_head_screw_m2x0_40_x_6__e925606c9d0777623cf02b2ae3e987b1_33 -->
    <!-- Part ph_pan_head_screw_m2x0_40_x_6__e925606c9d0777623cf02b2ae3e987b1_34 -->
    <!-- Part ph_pan_head_screw_m2x0_40_x_6__e925606c9d0777623cf02b2ae3e987b1_35 -->
    <!-- Part ph_pan_head_screw_m2x0_40_x_6__e925606c9d0777623cf02b2ae3e987b1_36 -->
    <!-- Part ph_pan_head_screw_m2x0_40_x_6__e925606c9d0777623cf02b2ae3e987b1_37 -->
    <!-- Part wheel_gear_v6_5 -->
    <visual>
      <origin xyz="0 0 -0.0055" rpy="1.5708 1.15548e-31 1.13079e-30"/>
      <geometry>
        <mesh filename="package://arm_description/assets/wheel_gear_v6__2.stl"/>
      </geometry>
      <material name="wheel_gear_v6_5_material">
        <color rgba="0.960784 0.960784 0.964706 1"/>
      </material>
    </visual>
    <collision>
      <origin xyz="0 0 -0.0055" rpy="1.5708 1.15548e-31 1.13079e-30"/>
      <geometry>
        <mesh filename="package://arm_description/assets/wheel_gear_v6__2.stl"/>
      </geometry>
    </collision>
    <!-- Part ph_pan_head_screw_m2x0_40_x_6__e925606c9d0777623cf02b2ae3e987b1_38 -->
    <!-- Part ph_pan_head_screw_m2x0_40_x_6__e925606c9d0777623cf02b2ae3e987b1_39 -->
    <!-- Part ph_pan_head_screw_m2x0_40_x_6__e925606c9d0777623cf02b2ae3e987b1_40 -->
    <!-- Part large_support_4 -->
    <visual>
      <origin xyz="-0.033 0.015 0.0015" rpy="-3.14159 1.5708 0"/>
      <geometry>
        <mesh filename="package://arm_description/assets/large_support.stl"/>
      </geometry>
      <material name="large_support_4_material">
        <color rgba="0.960784 0.960784 0.964706 1"/>
      </material>
    </visual>
    <collision>
      <origin xyz="-0.033 0.015 0.0015" rpy="-3.14159 1.5708 0"/>
      <geometry>
        <mesh filename="package://arm_description/assets/large_support.stl"/>
      </geometry>
    </collision>
    <!-- Part din_en_iso_4762_m2_5x25_ipt_v2_21 -->
    <!-- Part din_en_iso_4762_m2_5x25_ipt_v2_22 -->
    <!-- Part din_en_iso_4762_m2_5x25_ipt_v2_23 -->
    <!-- Part din_en_iso_4762_m2_5x25_ipt_v2_24 -->
    <!-- Part servo_base_6 -->
    <visual>
      <origin xyz="-0.187 -0.024 -0.03175" rpy="-1.5708 6.59147e-15 1.5708"/>
      <geometry>
        <mesh filename="package://arm_description/assets/servo_base__2.stl"/>
      </geometry>
      <material name="servo_base_6_material">
        <color rgba="0.313725 0.313725 0.313725 1"/>
      </material>
    </visual>
    <collision>
      <origin xyz="-0.187 -0.024 -0.03175" rpy="-1.5708 6.59147e-15 1.5708"/>
      <geometry>
        <mesh filename="package://arm_description/assets/servo_base__2.stl"/>
      </geometry>
    </collision>
    <!-- Part 6mm_bearing_v2_4 -->
    <visual>
      <origin xyz="-1.2264e-15 -5.20417e-16 -0.0595" rpy="1.5708 -1.5708 0"/>
      <geometry>
        <mesh filename="package://arm_description/assets/6mm_bearing_v2.stl"/>
      </geometry>
      <material name="6mm_bearing_v2_4_material">
        <color rgba="0.627451 0.627451 0.627451 1"/>
      </material>
    </visual>
    <collision>
      <origin xyz="-1.2264e-15 -5.20417e-16 -0.0595" rpy="1.5708 -1.5708 0"/>
      <geometry>
        <mesh filename="package://arm_description/assets/6mm_bearing_v2.stl"/>
      </geometry>
    </collision>
    <!-- Part wheel_v5_4 -->
    <visual>
      <origin xyz="3.46945e-18 6.93889e-18 -0.058" rpy="-1.5708 1.47562e-15 3.14159"/>
      <geometry>
        <mesh filename="package://arm_description/assets/wheel_v5.stl"/>
      </geometry>
      <material name="wheel_v5_4_material">
        <color rgba="0.960784 0.960784 0.964706 1"/>
      </material>
    </visual>
    <collision>
      <origin xyz="3.46945e-18 6.93889e-18 -0.058" rpy="-1.5708 1.47562e-15 3.14159"/>
      <geometry>
        <mesh filename="package://arm_description/assets/wheel_v5.stl"/>
      </geometry>
    </collision>
  </link>
  <!-- Link link_6 -->
  <link name="link_6">
    <inertial>
      <origin xyz="-0.00573906 5.13325e-17 -0.03175" rpy="0 0 0"/>
      <mass value="0.00249164"/>
      <inertia ixx="2.74245e-06" ixy="-7.94755e-21" ixz="4.35686e-09" iyy="2.5854e-06" iyz="-3.12343e-21" izz="2.76367e-07"/>
    </inertial>
    <!-- Part ph_pan_head_screw_m2x0_40_x_6__e925606c9d0777623cf02b2ae3e987b1_41 -->
    <!-- Part ph_pan_head_screw_m2x0_40_x_6__e925606c9d0777623cf02b2ae3e987b1_42 -->
    <!-- Part ph_pan_head_screw_m2x0_40_x_6__e925606c9d0777623cf02b2ae3e987b1_43 -->
    <!-- Part ph_pan_head_screw_m2x0_40_x_6__e925606c9d0777623cf02b2ae3e987b1_44 -->
    <!-- Part ph_pan_head_screw_m2x0_40_x_6__e925606c9d0777623cf02b2ae3e987b1_45 -->
    <!-- Part ph_pan_head_screw_m2x0_40_x_6__e925606c9d0777623cf02b2ae3e987b1_46 -->
    <!-- Part ph_pan_head_screw_m2x0_40_x_6__e925606c9d0777623cf02b2ae3e987b1_47 -->
    <!-- Part wheel_gear_v6_6 -->
    <visual>
      <origin xyz="0 8.32667e-17 -0.0055" rpy="1.5708 -1.62332e-14 4.53842e-28"/>
      <geometry>
        <mesh filename="package://arm_description/assets/wheel_gear_v6__3.stl"/>
      </geometry>
      <material name="wheel_gear_v6_6_material">
        <color rgba="0.960784 0.960784 0.964706 1"/>
      </material>
    </visual>
    <collision>
      <origin xyz="0 8.32667e-17 -0.0055" rpy="1.5708 -1.62332e-14 4.53842e-28"/>
      <geometry>
        <mesh filename="package://arm_description/assets/wheel_gear_v6__3.stl"/>
      </geometry>
    </collision>
    <!-- Part ph_pan_head_screw_m2x0_40_x_6__e925606c9d0777623cf02b2ae3e987b1_48 -->
    <!-- Part ph_pan_head_screw_m2x0_40_x_6__e925606c9d0777623cf02b2ae3e987b1_49 -->
    <!-- Part ph_pan_head_screw_m2x0_40_x_6__e925606c9d0777623cf02b2ae3e987b1_50 -->
    <!-- Part large_support_5 -->
    <visual>
      <origin xyz="-0.033 0.015 0.0015" rpy="-3.14159 1.5708 0"/>
      <geometry>
        <mesh filename="package://arm_description/assets/large_support__2.stl"/>
      </geometry>
      <material name="large_support_5_material">
        <color rgba="0.960784 0.960784 0.964706 1"/>
      </material>
    </visual>
    <collision>
      <origin xyz="-0.033 0.015 0.0015" rpy="-3.14159 1.5708 0"/>
      <geometry>
        <mesh filename="package://arm_description/assets/large_support__2.stl"/>
      </geometry>
    </collision>
    <!-- Part 6mm_bearing_v2_5 -->
    <visual>
      <origin xyz="-5.55112e-16 3.60822e-16 -0.0595" rpy="1.5708 -1.5708 0"/>
      <geometry>
        <mesh filename="package://arm_description/assets/6mm_bearing_v2__2.stl"/>
      </geometry>
      <material name="6mm_bearing_v2_5_material">
        <color rgba="0.627451 0.627451 0.627451 1"/>
      </material>
    </visual>
    <collision>
      <origin xyz="-5.55112e-16 3.60822e-16 -0.0595" rpy="1.5708 -1.5708 0"/>
      <geometry>
        <mesh filename="package://arm_description/assets/6mm_bearing_v2__2.stl"/>
      </geometry>
    </collision>
    <!-- Part wheel_v5_5 -->
    <visual>
      <origin xyz="0 1.11022e-16 -0.058" rpy="-1.5708 1.62332e-14 3.14159"/>
      <geometry>
        <mesh filename="package://arm_description/assets/wheel_v5__2.stl"/>
      </geometry>
      <material name="wheel_v5_5_material">
        <color rgba="0.960784 0.960784 0.964706 1"/>
      </material>
    </visual>
    <collision>
      <origin xyz="0 1.11022e-16 -0.058" rpy="-1.5708 1.62332e-14 3.14159"/>
      <geometry>
        <mesh filename="package://arm_description/assets/wheel_v5__2.stl"/>
      </geometry>
    </collision>
  </link>
  <!-- Frame tcp (dummy link + fixed joint) -->
  <link name="tcp">
    <origin xyz="0 0 0" rpy="0 -0 0"/>
    <inertial>
      <origin xyz="0 0 0" rpy="0 0 0"/>
      <mass value="1e-9"/>
      <inertia ixx="0" ixy="0" ixz="0" iyy="0" iyz="0" izz="0"/>
    </inertial>
  </link>
  <joint name="tcp_frame" type="fixed">
    <origin xyz="-0.033 5.55112e-17 -0.03175" rpy="-3.14159 1.5708 0"/>
    <parent link="link_6"/>
    <child link="tcp"/>
    <axis xyz="0 0 0"/>
  </joint>
  <!-- Joint from link_5 to link_6 -->
  <joint name="joint_6" type="revolute">
    <origin xyz="-0.175 -0.0315 -0.03175" rpy="1.5708 1.5708 0"/>
    <parent link="link_5"/>
    <child link="link_6"/>
    <axis xyz="0 0 1"/>
    <limit effort="10" velocity="1" lower="0" upper="3.14159"/>
  </joint>
  <!-- Joint from link_4 to link_5 -->
  <joint name="joint_5" type="revolute">
    <origin xyz="-0.145 -0.0315 -0.03175" rpy="1.5708 1.5708 0"/>
    <parent link="link_4"/>
    <child link="link_5"/>
    <axis xyz="0 0 1"/>
    <limit effort="10" velocity="1" lower="0" upper="3.14159"/>
  </joint>
  <!-- Joint from link_3 to link_4 -->
  <joint name="joint_4" type="revolute">
    <origin xyz="3.33067e-16 0.224 0.063" rpy="1.33151e-14 -4.56336e-15 -3.14159"/>
    <parent link="link_3"/>
    <child link="link_4"/>
    <axis xyz="0 0 1"/>
    <limit effort="10" velocity="1" lower="0" upper="3.14159"/>
  </joint>
  <!-- Joint from link_2 to link_3 -->
  <joint name="joint_3" type="revolute">
    <origin xyz="-0.166 0 -1.38778e-17" rpy="3.14159 5.80243e-15 0"/>
    <parent link="link_2"/>
    <child link="link_3"/>
    <axis xyz="0 0 1"/>
    <limit effort="10" velocity="1" lower="-4.44089e-15" upper="3.14159"/>
  </joint>
  <!-- Joint from link_1 to link_2 -->
  <joint name="joint_2" type="revolute">
    <origin xyz="-1.89511e-17 -0.0315746 0.0675" rpy="-1.5708 -1.27563e-14 -3.14159"/>
    <parent link="link_1"/>
    <child link="link_2"/>
    <axis xyz="0 0 1"/>
    <limit effort="10" velocity="1" lower="0" upper="3.14159"/>
  </joint>
  <!-- Joint from base_link to link_1 -->
  <joint name="joint_1" type="revolute">
    <origin xyz="1.39768e-18 9.14136e-05 0.0755" rpy="1.7878e-15 -9.97279e-17 3.14159"/>
    <parent link="base_link"/>
    <child link="link_1"/>
    <axis xyz="0 0 1"/>
    <limit effort="10" velocity="1" lower="0" upper="3.14159"/>
  </joint>
</robot>
